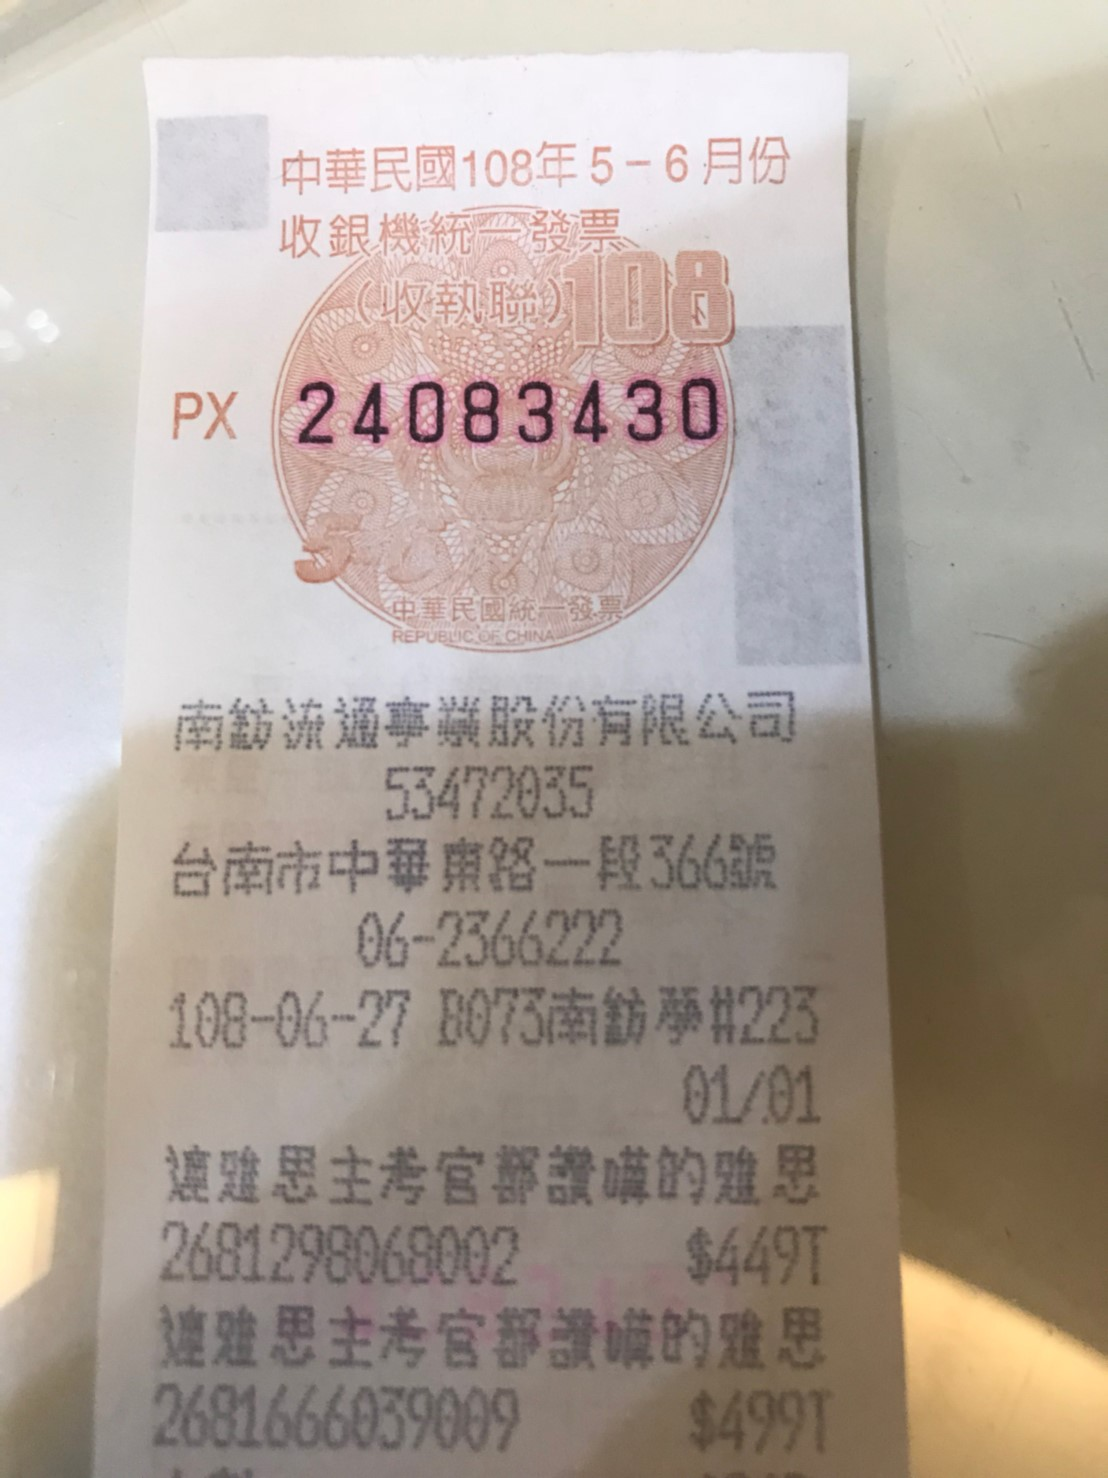Date_Old: (459, 132, 790, 196)
Number_Old: (294, 377, 719, 446)
